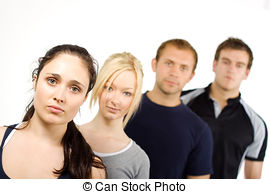face: (33, 46, 93, 132), (149, 36, 202, 105), (93, 60, 141, 128), (212, 34, 259, 92)
